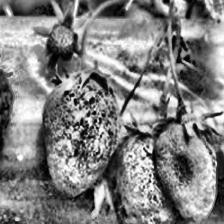Gray Mold: (41, 60, 120, 200), (148, 98, 224, 222), (108, 113, 191, 224)
